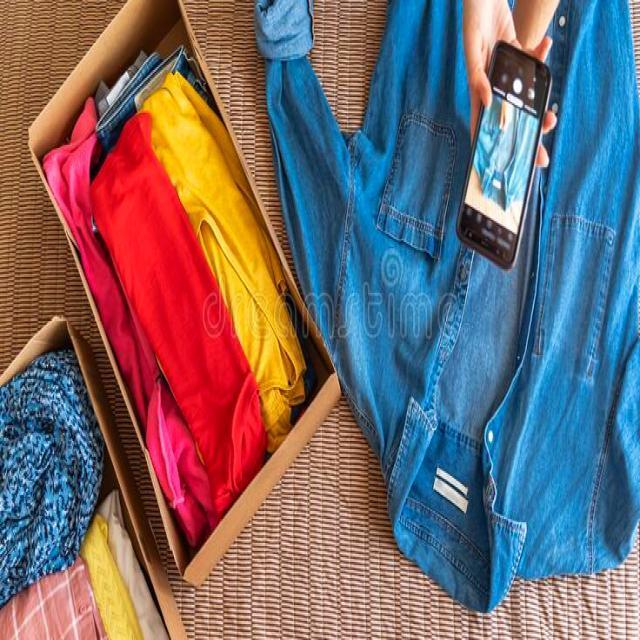clothes: (257, 0, 468, 549), (453, 0, 627, 607), (66, 100, 250, 462), (0, 393, 103, 640), (555, 315, 640, 548)
